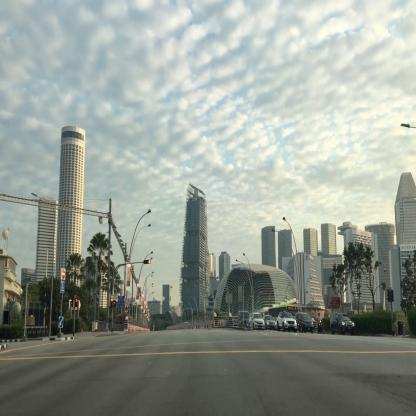red_traffic_light: (144, 260, 151, 264), (110, 298, 112, 308)
